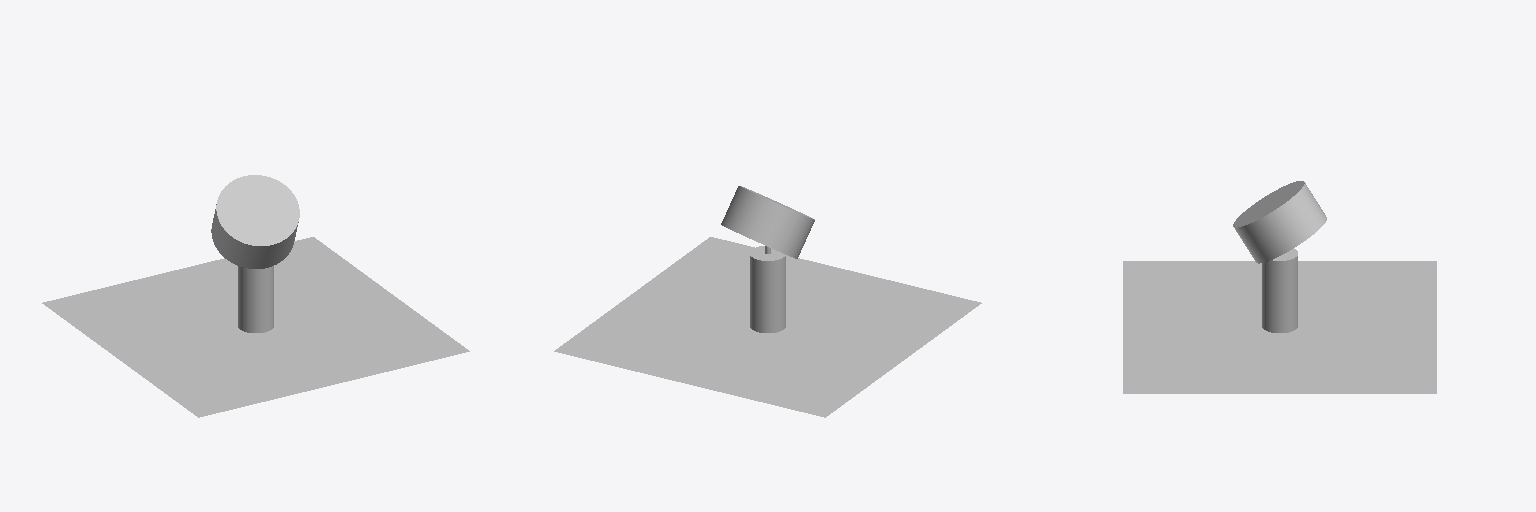
Rendered from lamp24.obj.
The picture shows the model from 3 angles: view 1: azimuth 30°, elevation 25°; view 2: azimuth 150°, elevation 25°; view 3: azimuth 270°, elevation 25°; orthographic projection.
Parts seen in each view (by area): view 1: Plane, Cylinder.002, Cylinder; view 2: Plane, Cylinder.002, Cylinder, Cylinder.001; view 3: Plane, Cylinder.002, Cylinder.
Part boxes in pixels (left/top/right/bottom): Plane: left=42, top=237, right=469, bottom=417; Cylinder.002: left=211, top=175, right=299, bottom=268; Cylinder: left=238, top=266, right=273, bottom=332; Plane: left=554, top=237, right=981, bottom=417; Cylinder.002: left=721, top=186, right=814, bottom=258; Cylinder: left=750, top=263, right=785, bottom=332; Cylinder.001: left=750, top=246, right=785, bottom=267; Plane: left=1123, top=261, right=1436, bottom=393; Cylinder.002: left=1233, top=181, right=1326, bottom=263; Cylinder: left=1262, top=263, right=1297, bottom=332.
Bounding box in the file's own units: 17.18 × 8.6 × 17.18.